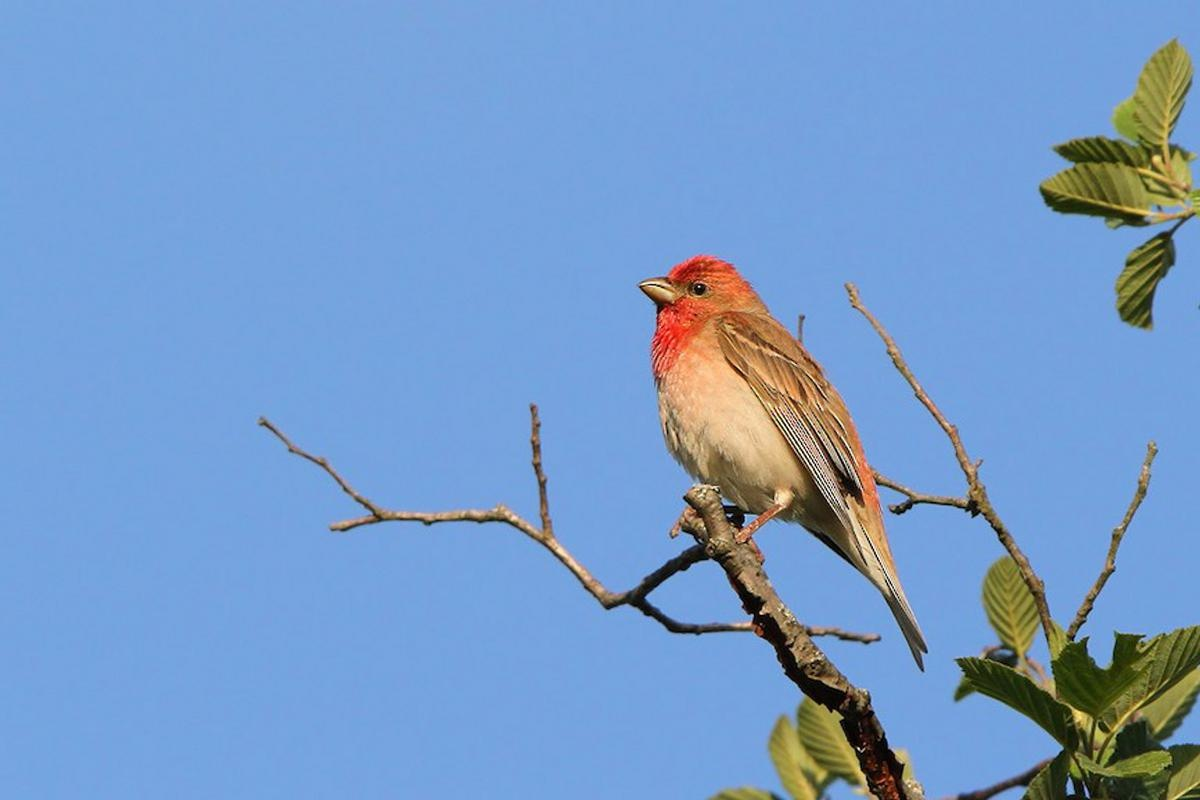rosefinch: (640, 224, 914, 621)
